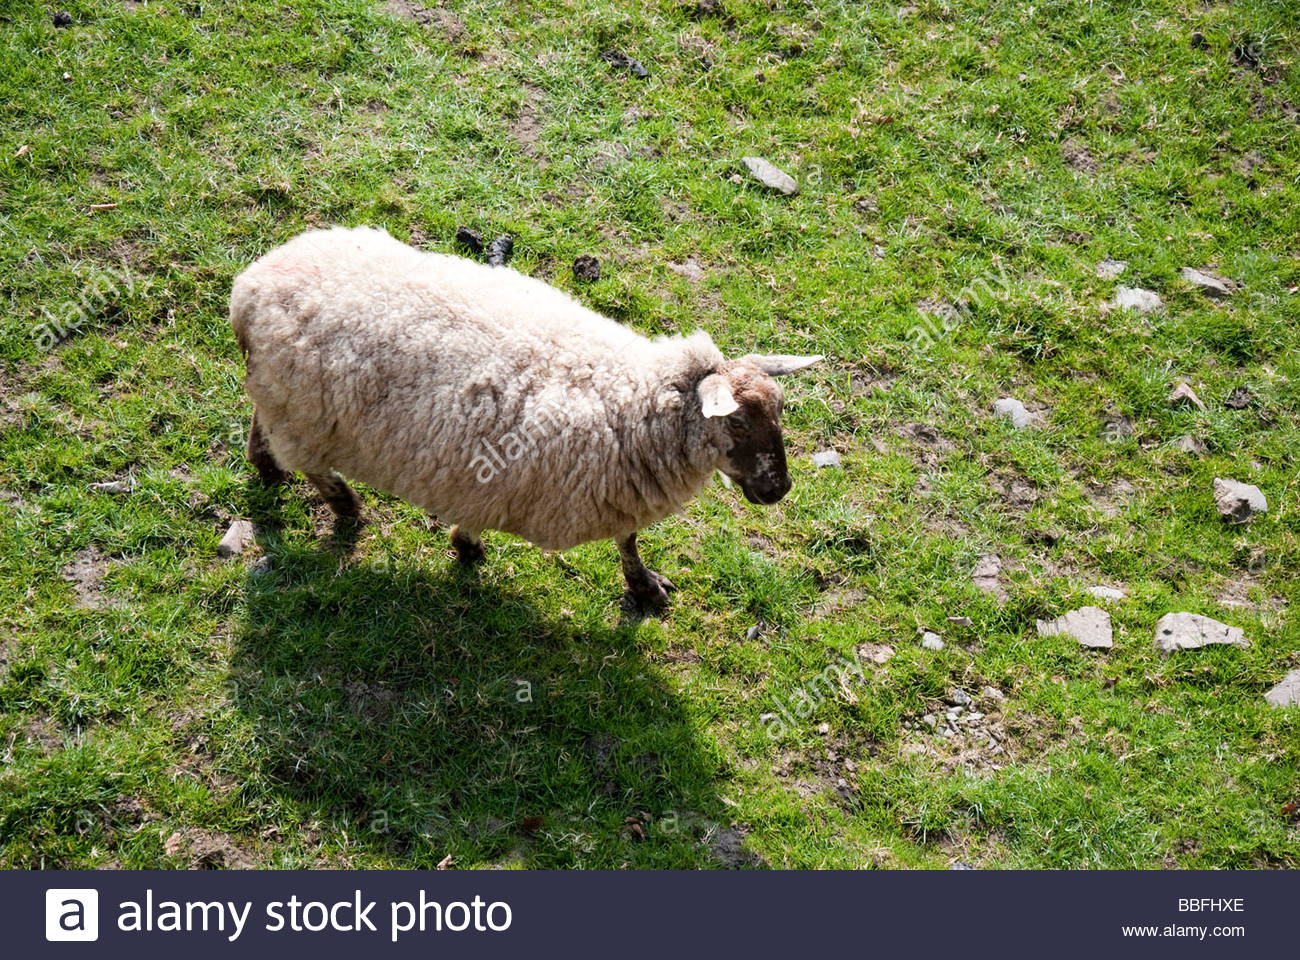sheep: (191, 224, 804, 642)
